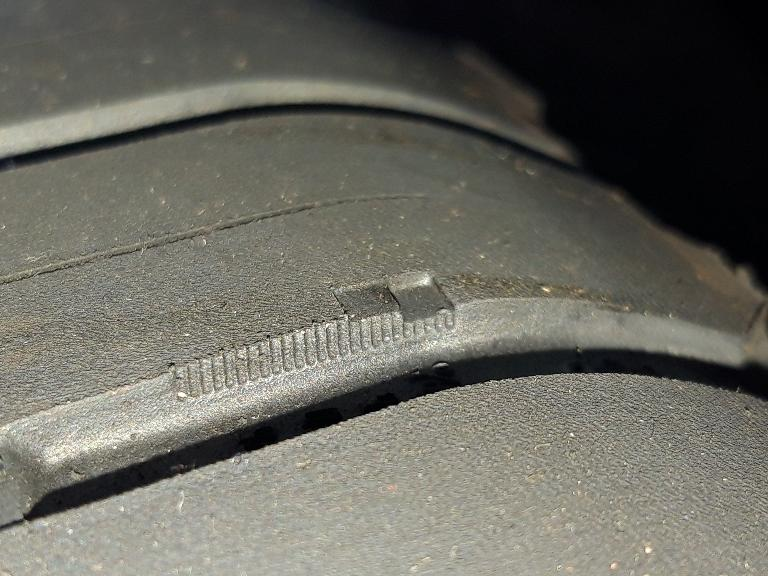temoin:25: (324, 263, 465, 362)
